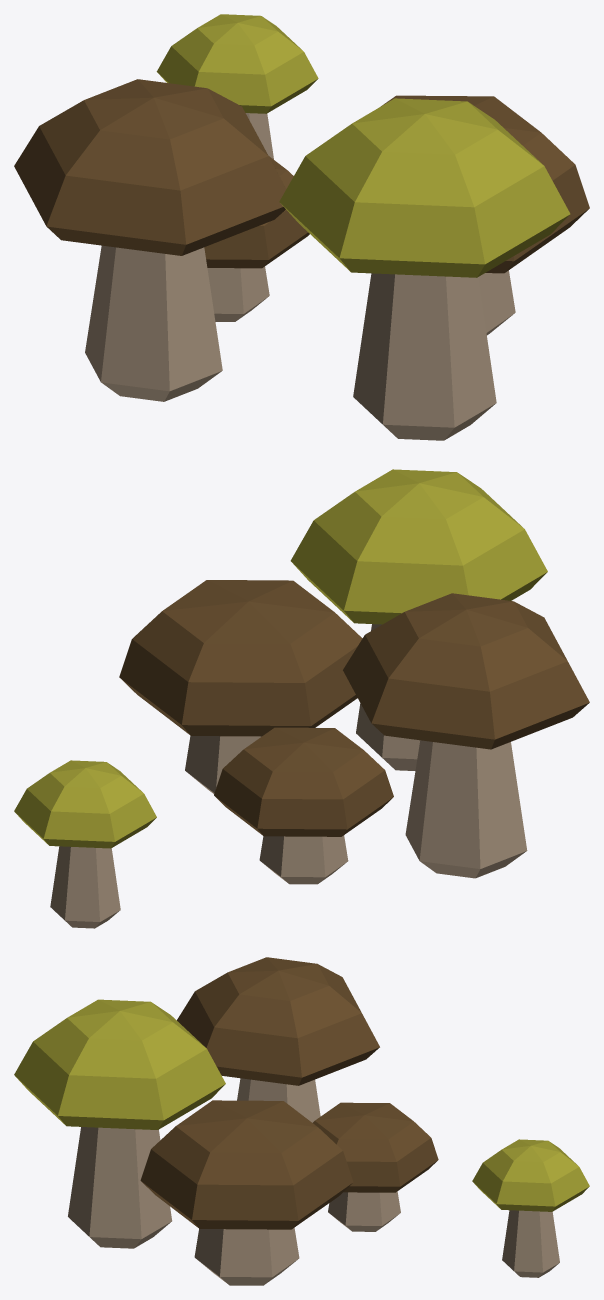
The model's file is mushroom4.fbx.
The picture shows the model from 3 angles, top to bottom: view 1: azimuth 30°, elevation 25°; view 2: azimuth 150°, elevation 25°; view 3: azimuth 270°, elevation 25°; orthographic projection. The views are drawn at different scales.
Parts seen in each view (by area): view 1: mushroom4; view 2: mushroom4; view 3: mushroom4.
Part boxes in pixels (x1=…): mushroom4: x1=14, y1=14, x2=589, y2=440; mushroom4: x1=14, y1=469, x2=589, y2=928; mushroom4: x1=14, y1=957, x2=589, y2=1285.
Size of the model in its own units: 22.34 by 13.19 by 30.47.
